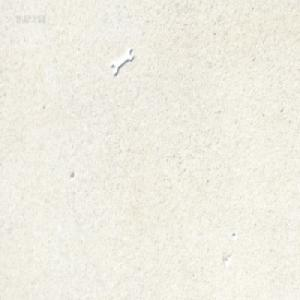Wrench: (111, 50, 133, 78)
